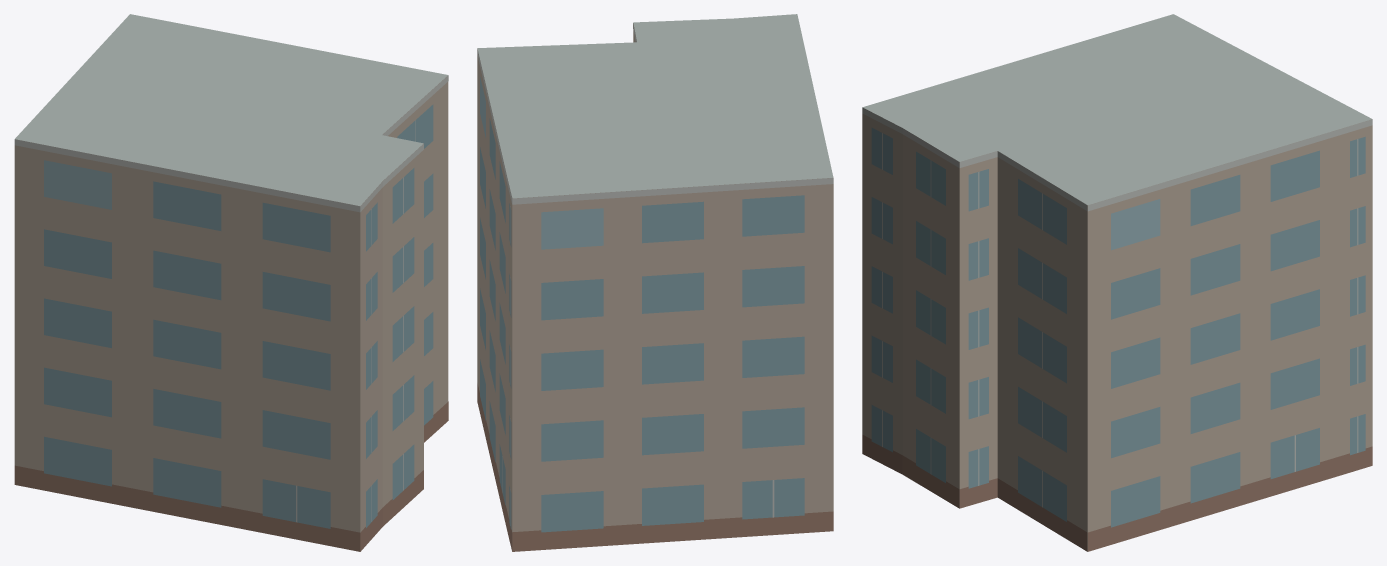
The model's file is survey-upis-32990692.glb.
The picture shows the model from 3 angles, left to right: view 1: azimuth 30°, elevation 25°; view 2: azimuth 150°, elevation 25°; view 3: azimuth 270°, elevation 25°; orthographic projection. The views are drawn at different scales.
Visible parts, largest first — view 1: survey-upis-32990692.tmp; view 2: survey-upis-32990692.tmp; view 3: survey-upis-32990692.tmp.
Boxes of the visible parts, x1,y1,x2,y2 form: survey-upis-32990692.tmp: (14,14,448,551); survey-upis-32990692.tmp: (477,14,833,551); survey-upis-32990692.tmp: (862,14,1372,551).
Size of the model in its own units: 16.23 by 13.7 by 18.29.
